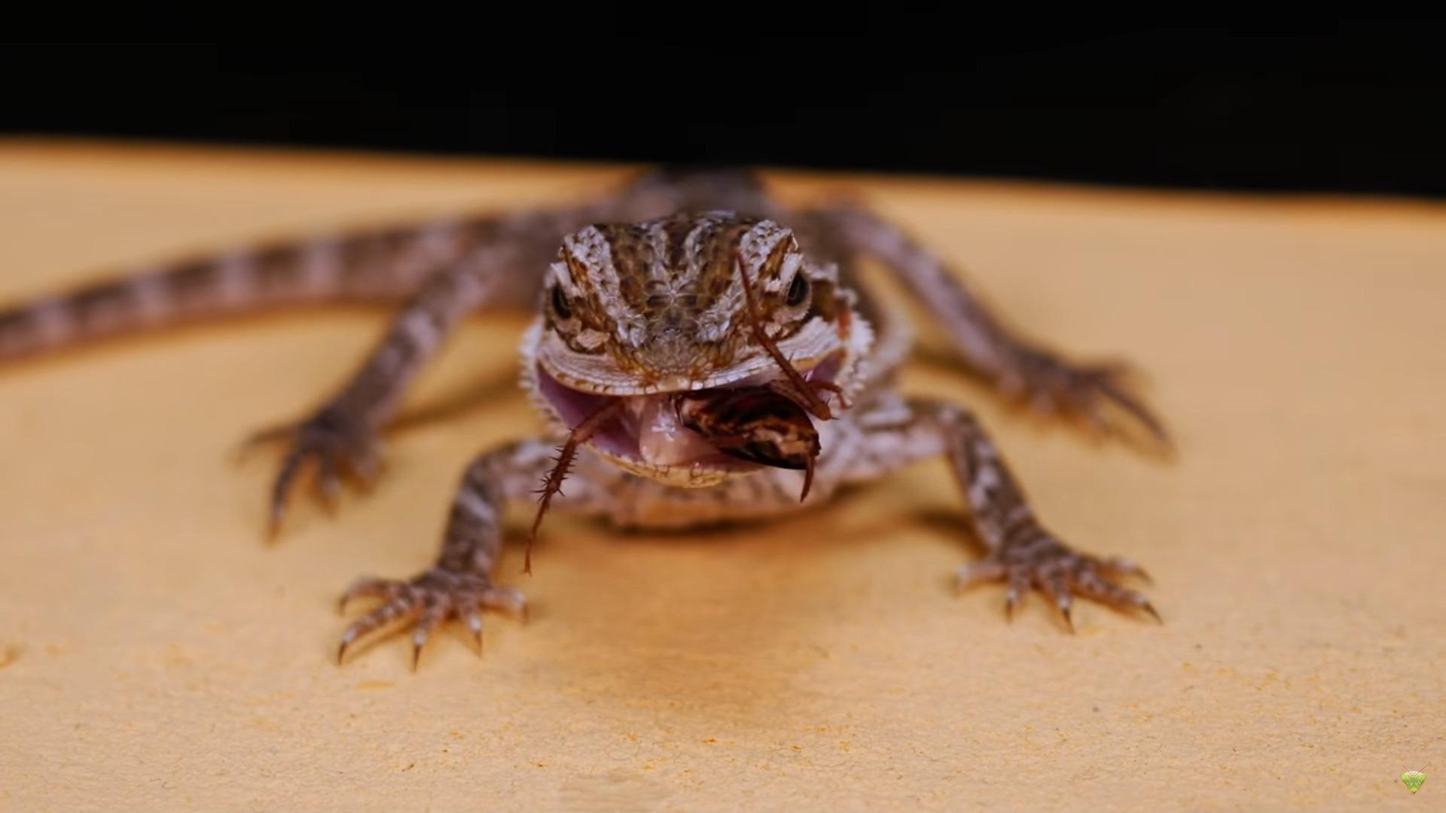cockroach: (513, 397, 873, 569)
lizard: (326, 204, 1167, 693)
